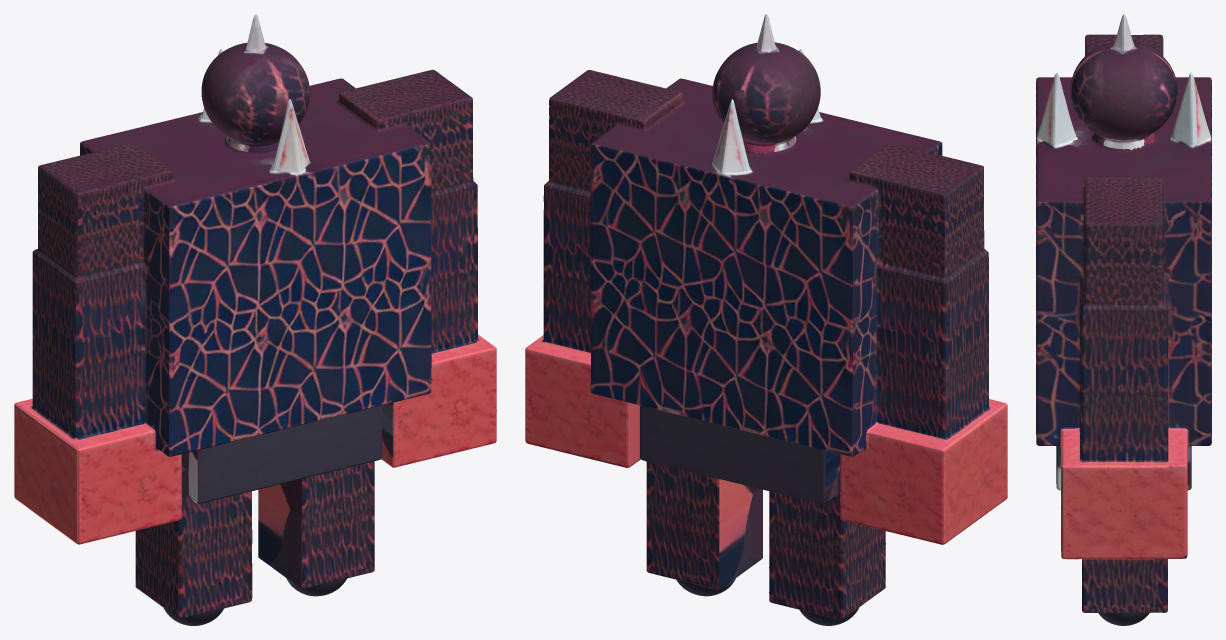
File: creature-134.glb
The picture shows the model from 3 angles, left to right: view 1: azimuth 30°, elevation 25°; view 2: azimuth 150°, elevation 25°; view 3: azimuth 270°, elevation 25°; orthographic projection. The views are drawn at different scales.
Parts seen in each view (by area): view 1: tmpqrhjh6jh.ply; view 2: tmpqrhjh6jh.ply; view 3: tmpqrhjh6jh.ply.
Part boxes in pixels (x1=…): tmpqrhjh6jh.ply: x1=14, y1=14, x2=496, y2=625; tmpqrhjh6jh.ply: x1=525, y1=14, x2=1007, y2=625; tmpqrhjh6jh.ply: x1=1036, y1=14, x2=1211, y2=625.
Size of the model in its own units: 1.47 by 1.99 by 0.5477.
Materials: 1 (1 with a texture image).
